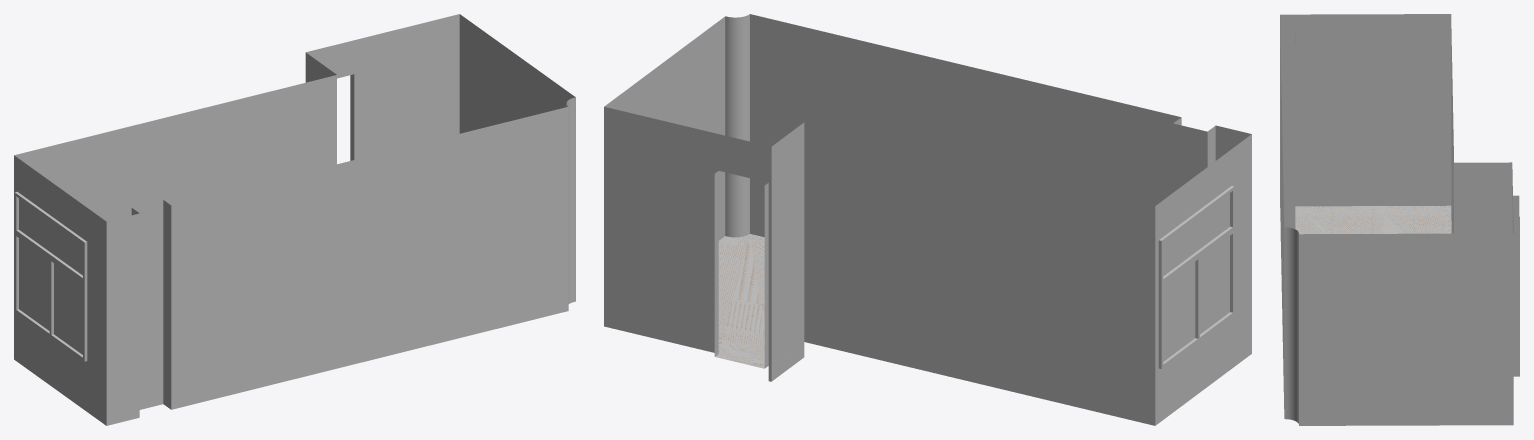
File: DES028.obj
3 renders of one model, left to right at view 1: azimuth 30°, elevation 25°; view 2: azimuth 150°, elevation 25°; view 3: azimuth 270°, elevation 25°, orthographic. The views are drawn at different scales.
Parts seen in each view (by area): view 1: Mesh7 DES028 Model, Mesh1 ventana1_2_1 DES028 Model; view 2: Mesh7 DES028 Model, Mesh1 ventana1_2_1 DES028 Model; view 3: Mesh7 DES028 Model, Mesh1 ventana1_2_1 DES028 Model.
Boxes of the visible parts, x1,y1,x2,y2 form: Mesh7 DES028 Model: [14, 14, 575, 425]; Mesh1 ventana1_2_1 DES028 Model: [14, 191, 87, 361]; Mesh7 DES028 Model: [604, 14, 1251, 425]; Mesh1 ventana1_2_1 DES028 Model: [1158, 186, 1234, 368]; Mesh7 DES028 Model: [1280, 14, 1519, 425]; Mesh1 ventana1_2_1 DES028 Model: [1315, 46, 1444, 158].
Size of the model in its own units: 8.91 by 3.85 by 4.08.
